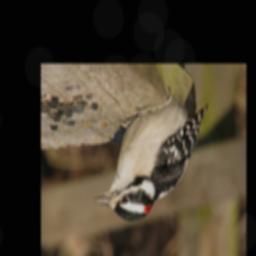Woodpecker: (91, 86, 210, 220)
